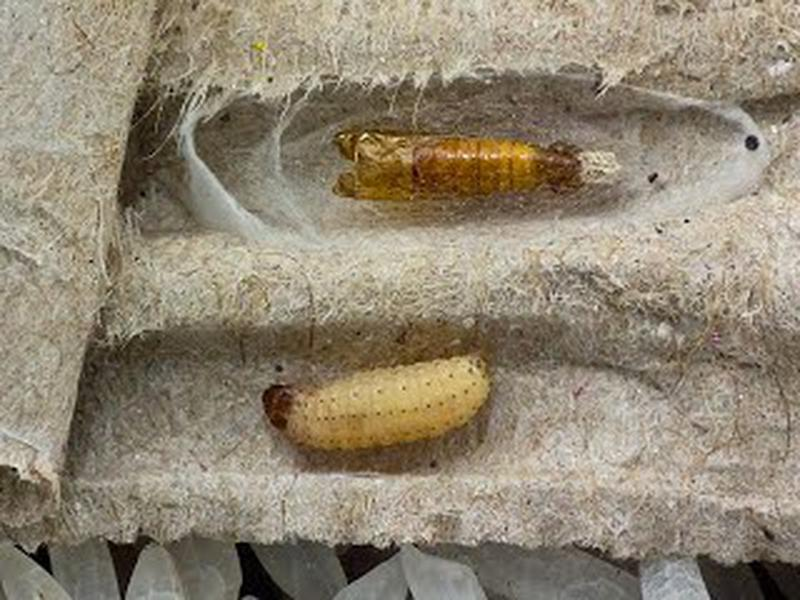Rice_horned_caterpillar: (296, 102, 631, 234), (232, 344, 503, 447)
